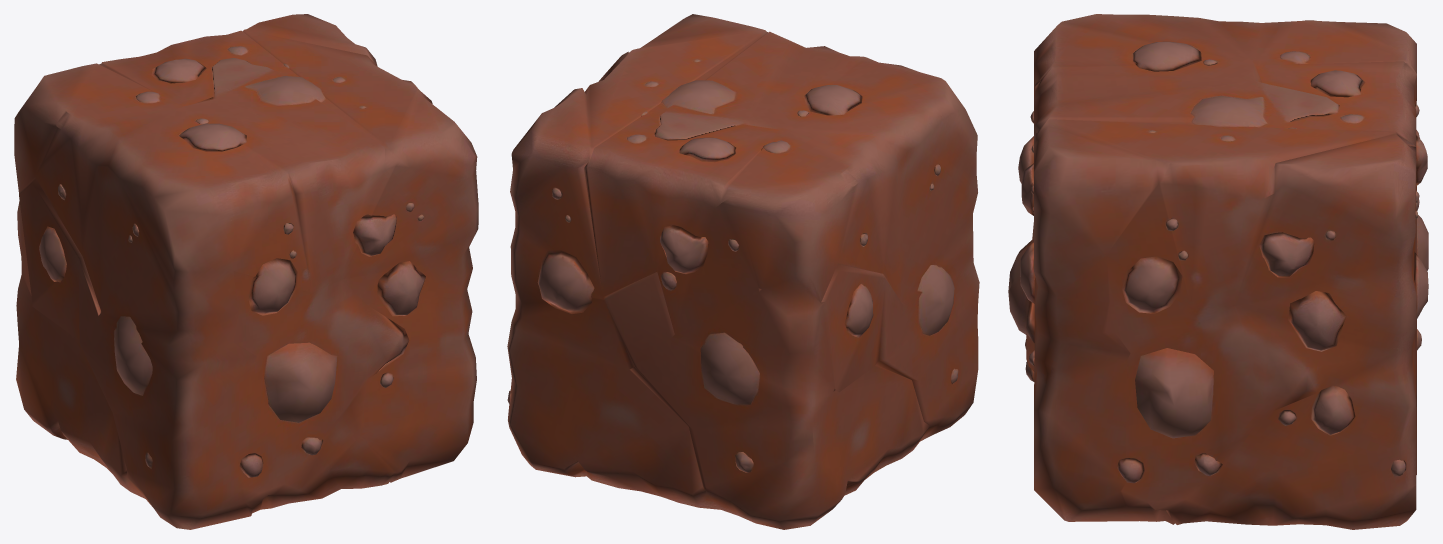
The model's file is original_glb.glb.
The picture shows the model from 3 angles, left to right: view 1: azimuth 30°, elevation 25°; view 2: azimuth 150°, elevation 25°; view 3: azimuth 270°, elevation 25°; orthographic projection. The views are drawn at different scales.
Visible parts, largest first — view 1: tile-32-iron-ore; view 2: tile-32-iron-ore; view 3: tile-32-iron-ore.
Part boxes in pixels (box(x1,y1,x2,y2)): tile-32-iron-ore: box(14, 14, 478, 529); tile-32-iron-ore: box(507, 14, 979, 529); tile-32-iron-ore: box(1008, 14, 1428, 529).
Size of the model in its own units: 0.998 by 0.9902 by 0.998.
1 material, 1 textured.
